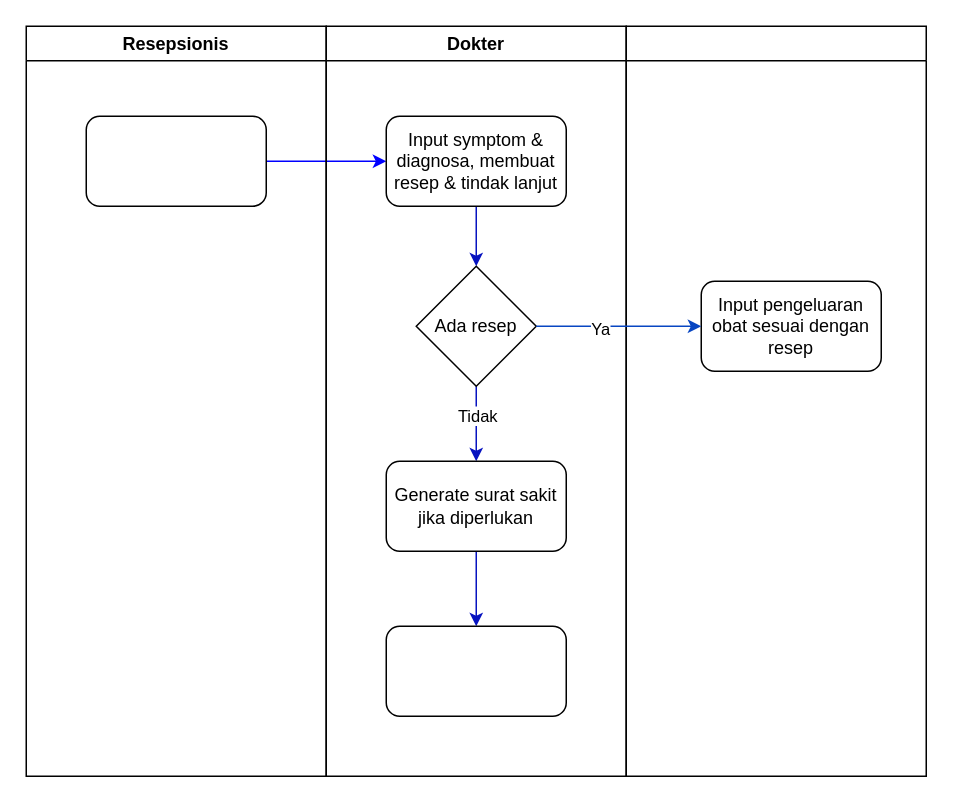
This 953x803 diagram has some shape labels left out. Here are the shapes that lost their labels. From the top down, the box of each, then its label:
(85, 115, 266, 206): Input pendaftaran
(625, 25, 926, 776): Farmasi
(385, 625, 566, 716): Generate surat rujukan jika diperlukan
